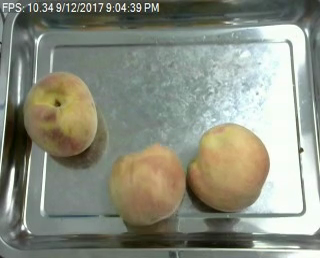Peach: (185, 120, 272, 211), (22, 69, 98, 156), (109, 144, 186, 225)
